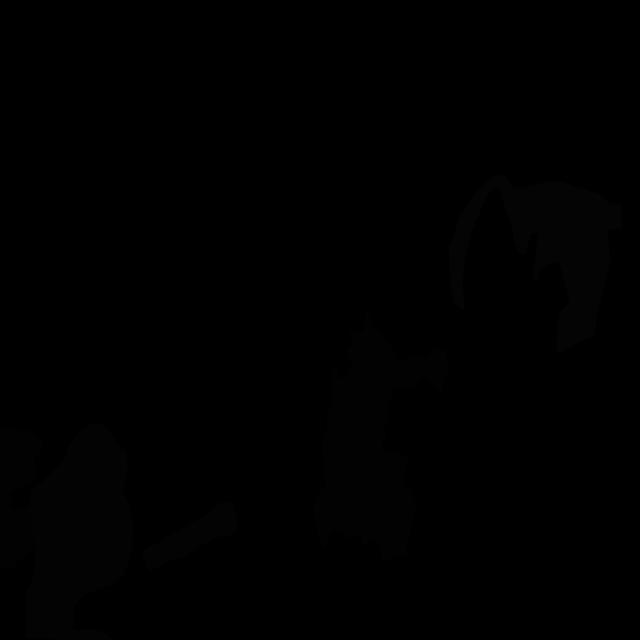cardboard: (313, 309, 450, 564), (0, 424, 44, 572)
metal: (24, 423, 133, 640), (142, 501, 238, 572)
soft_plastic: (448, 175, 622, 355)
